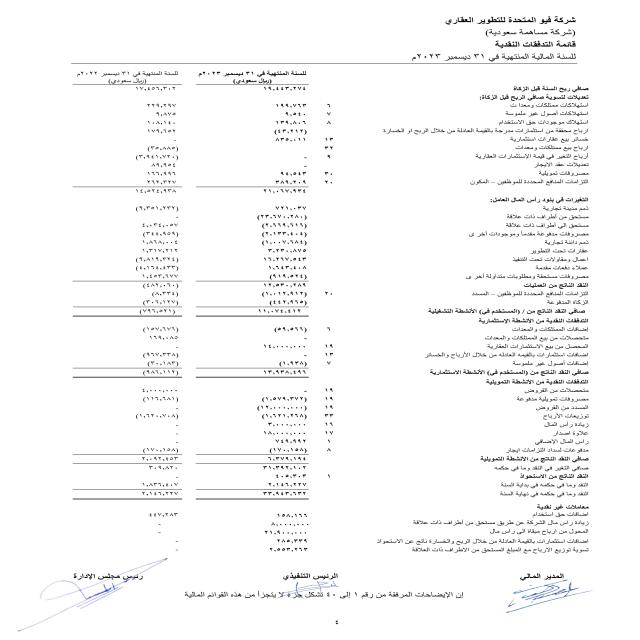financial_sheets: (490, 40, 590, 50)
table: (62, 65, 350, 562)
